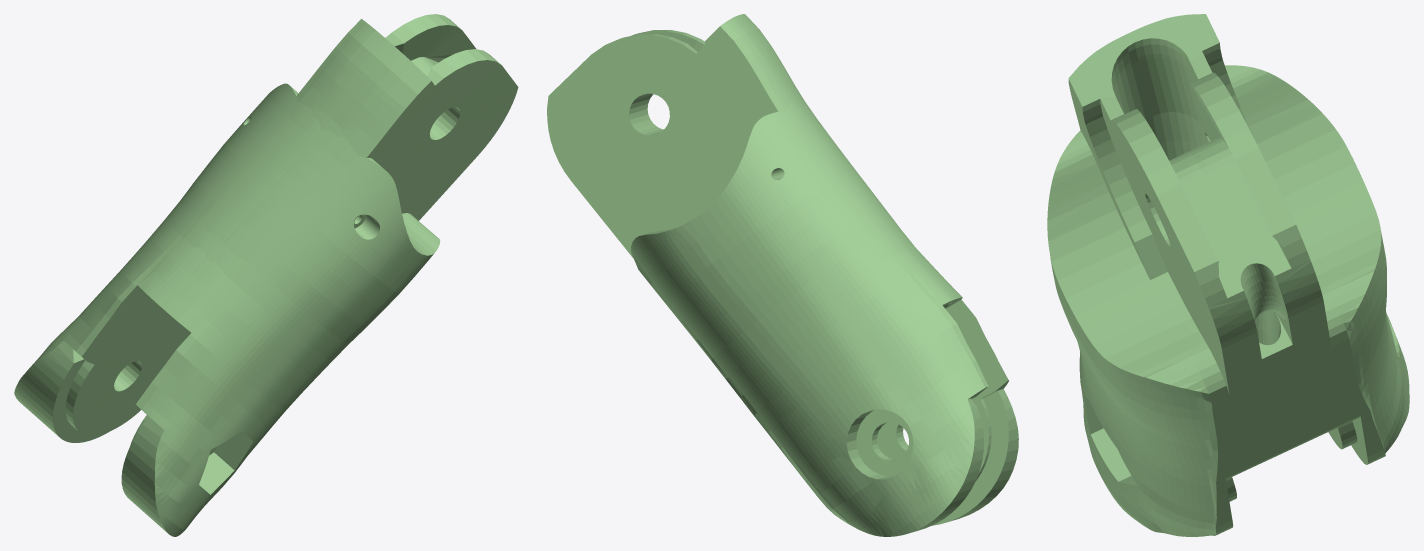
The model's file is i02_rightHand_ThumbMid_visual.obj.
3 renders of one model, left to right at view 1: azimuth 30°, elevation 25°; view 2: azimuth 150°, elevation 25°; view 3: azimuth 270°, elevation 25°, orthographic. The views are drawn at different scales.
Parts seen in each view (by area): view 1: i02_rightHand_ThumbMid_visual.001; view 2: i02_rightHand_ThumbMid_visual.001; view 3: i02_rightHand_ThumbMid_visual.001.
Part boxes in pixels (x1,y1,x2,y2): i02_rightHand_ThumbMid_visual.001: (14, 14, 518, 536); i02_rightHand_ThumbMid_visual.001: (547, 14, 1018, 536); i02_rightHand_ThumbMid_visual.001: (1047, 14, 1409, 536).
Bounding box in the file's own units: 0.4503 × 0.4356 × 0.2184.
